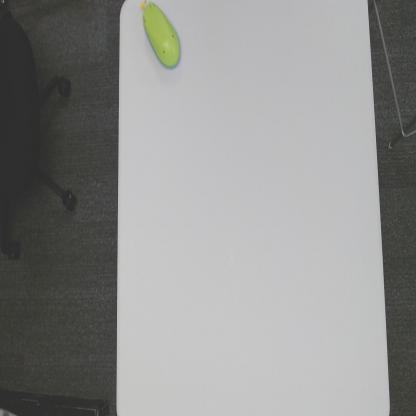Boat: (138, 0, 183, 74)
